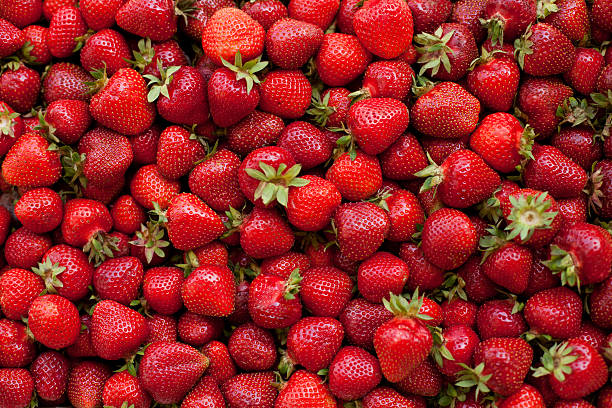Fresa: (88, 66, 160, 137), (139, 336, 209, 407), (371, 302, 433, 381), (429, 147, 504, 212), (86, 296, 154, 367), (157, 188, 225, 255), (411, 76, 479, 143), (517, 141, 590, 203), (419, 205, 482, 276), (342, 94, 412, 157), (542, 335, 612, 398), (342, 1, 418, 59), (201, 5, 266, 72), (470, 331, 535, 398), (513, 19, 579, 84), (550, 220, 612, 289), (421, 19, 482, 87), (73, 122, 134, 189), (527, 281, 588, 348), (314, 26, 376, 90), (1, 131, 66, 192), (504, 186, 564, 252), (189, 148, 246, 217), (208, 64, 264, 134), (239, 143, 302, 205), (471, 109, 532, 173), (237, 200, 297, 264), (154, 64, 213, 129), (466, 47, 520, 117), (520, 75, 580, 138), (295, 259, 354, 322), (330, 202, 393, 261), (370, 186, 429, 248), (180, 256, 237, 319), (36, 241, 97, 299), (247, 271, 304, 333), (325, 147, 388, 203), (283, 173, 342, 232), (149, 121, 207, 180), (23, 295, 85, 350), (263, 16, 325, 71), (61, 190, 114, 254), (327, 341, 383, 401), (354, 248, 411, 305), (483, 235, 535, 297), (287, 315, 345, 370), (137, 261, 188, 323), (128, 160, 185, 214), (277, 119, 335, 172), (258, 66, 317, 118), (80, 26, 135, 81), (223, 319, 279, 371), (537, 2, 595, 51), (113, 1, 182, 42), (11, 185, 66, 235), (1, 262, 47, 321), (39, 97, 94, 146), (276, 366, 340, 408), (360, 59, 417, 105), (481, 1, 547, 38), (63, 358, 111, 408), (476, 293, 526, 340), (28, 347, 71, 400), (1, 64, 43, 117), (49, 4, 89, 58), (221, 371, 279, 408)
